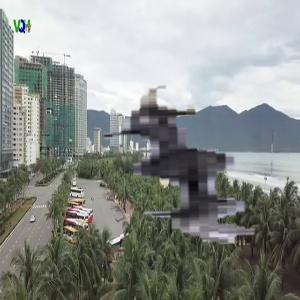drone: (95, 67, 293, 265)
